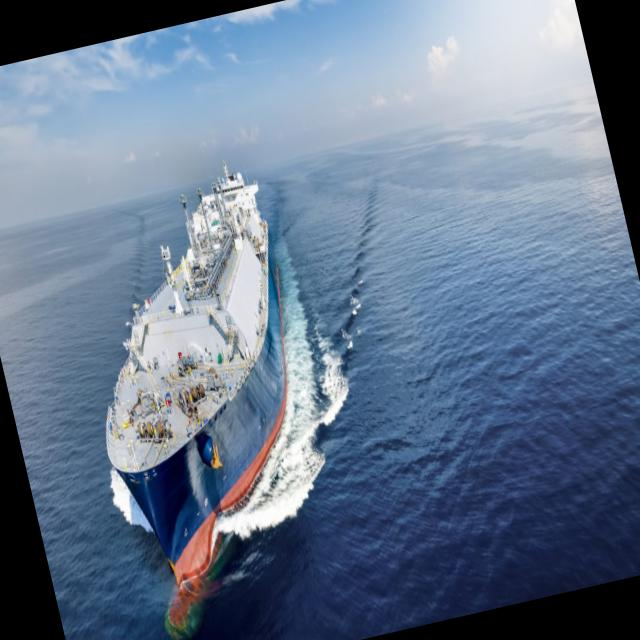boat: (36, 142, 359, 620)
